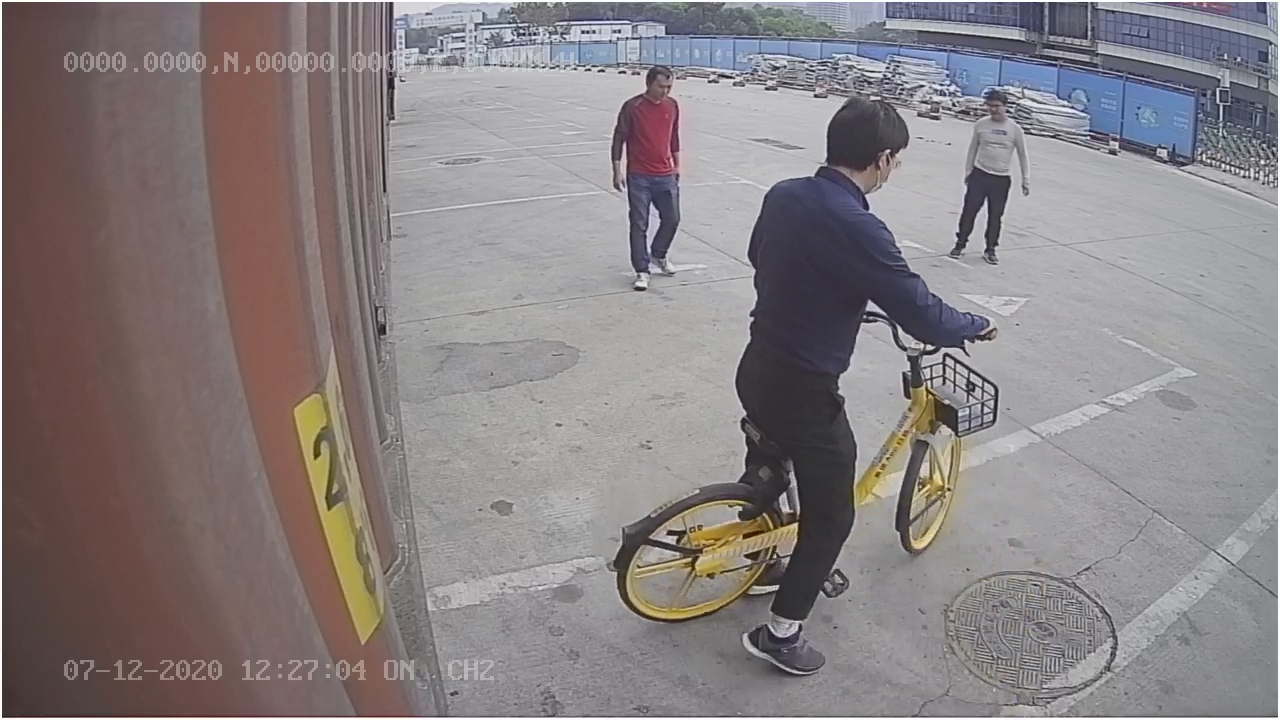person: (607, 62, 690, 295)
